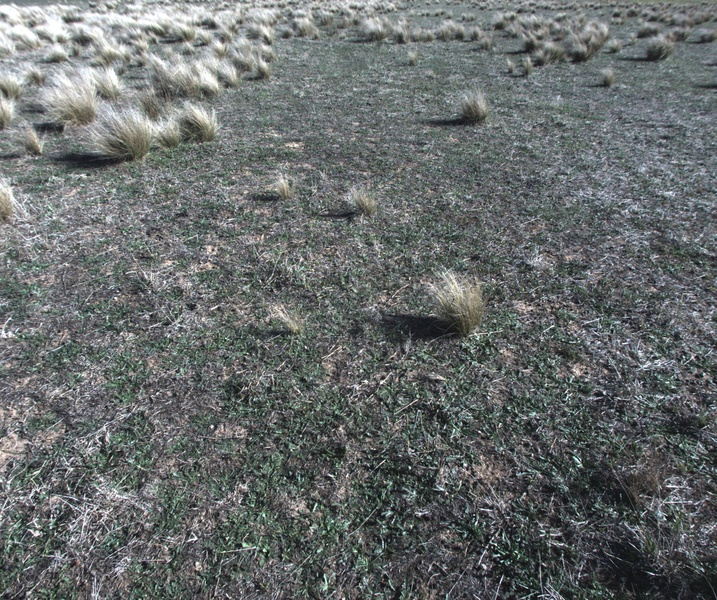st: (434, 263, 493, 347), (95, 111, 155, 163), (42, 80, 93, 128), (148, 52, 198, 96), (457, 80, 487, 132), (271, 304, 308, 341), (213, 50, 241, 92), (344, 186, 377, 218), (191, 109, 222, 143), (526, 37, 559, 66), (95, 67, 123, 98), (191, 67, 222, 95), (265, 173, 296, 200), (158, 117, 182, 150), (251, 46, 274, 79), (568, 36, 597, 62), (19, 132, 46, 159), (647, 38, 672, 66), (1, 179, 16, 224), (1, 73, 19, 103), (598, 67, 620, 88), (503, 52, 517, 78), (521, 55, 536, 78), (409, 47, 421, 69), (1, 110, 14, 130), (604, 39, 621, 52)
